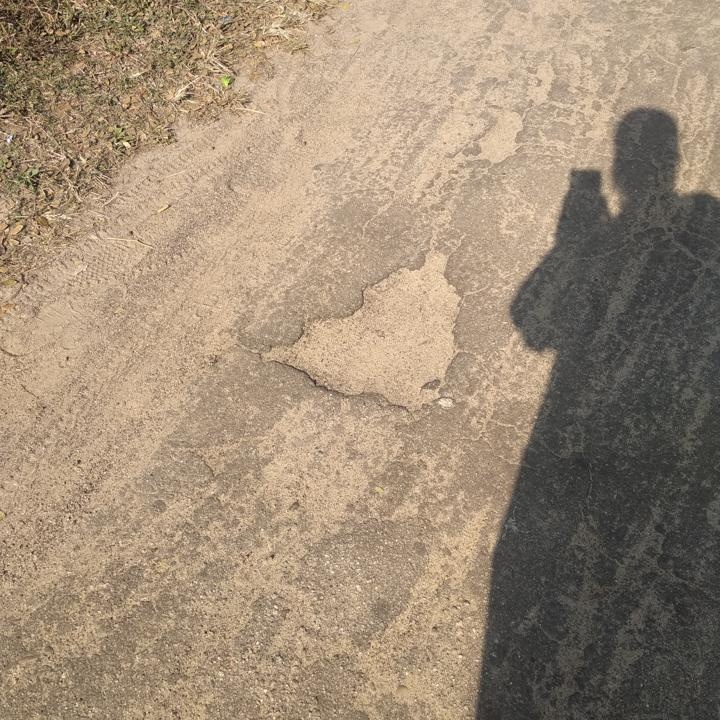pothole: (256, 241, 472, 412), (465, 105, 528, 164)
